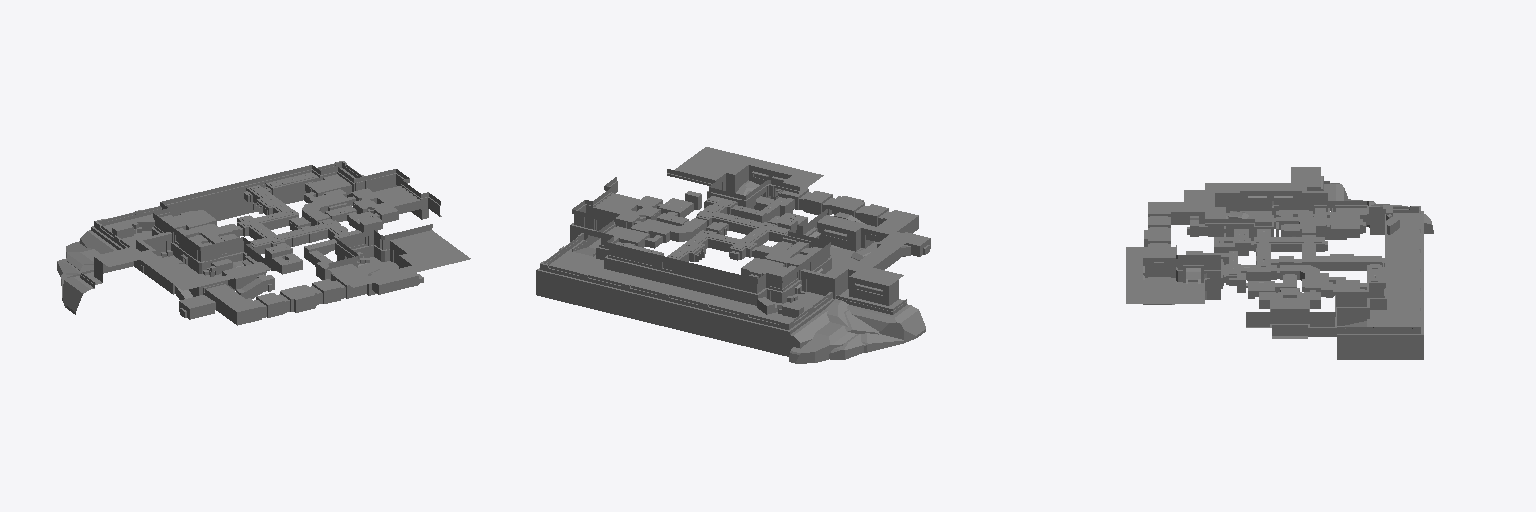
File: cs_office.obj
The picture shows the model from 3 angles: view 1: azimuth 30°, elevation 25°; view 2: azimuth 150°, elevation 25°; view 3: azimuth 270°, elevation 25°; orthographic projection.
Visible parts, largest first — view 1: BSP_Object_model_0; view 2: BSP_Object_model_0, BSP_Object_model_10; view 3: BSP_Object_model_0.
Boxes of the visible parts, box(x1,y1,x2,y2) form: BSP_Object_model_0: box(57, 161, 470, 325); BSP_Object_model_0: box(536, 147, 930, 363); BSP_Object_model_10: box(546, 237, 826, 323); BSP_Object_model_0: box(1126, 167, 1433, 359).
Bounding box in the file's own units: 5136 × 752 × 4038.